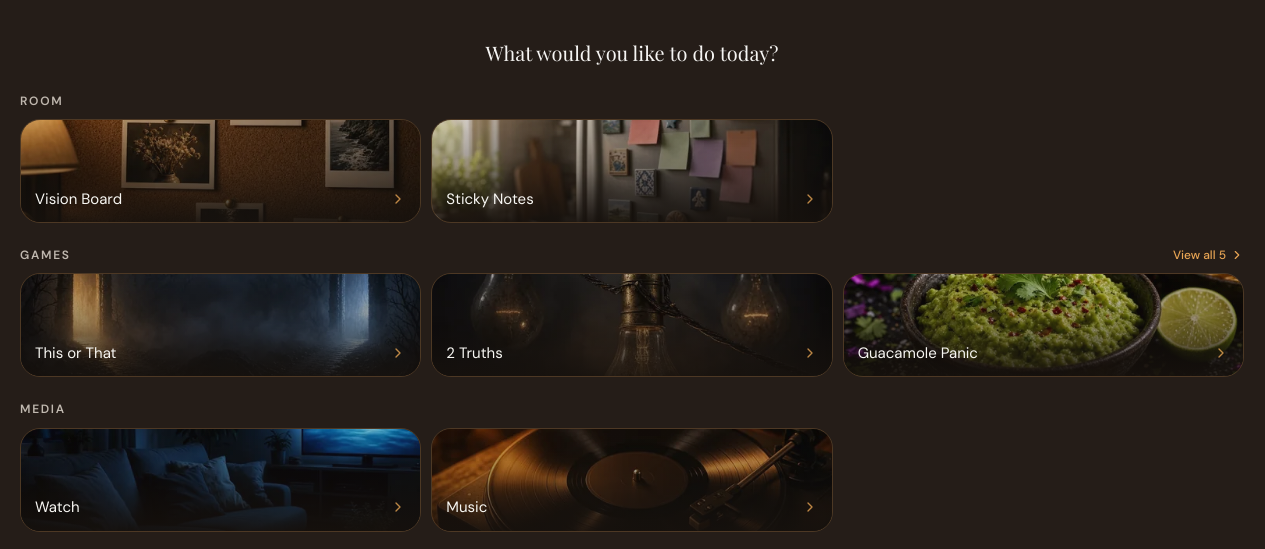
Test: ActivityLobby › shows three games up front and keeps the rest behind one door
The width and height of the screenshot is (1265, 549).
Check: the button "This or That" is shown, box 20,273 -> 421,377
Check: the button "2 Truths" is shown, box 431,273 -> 833,377
Step 1. Click the button "View all 5" → coordinates (1208, 255), box 1173,247 -> 1244,263
(page scrolled)
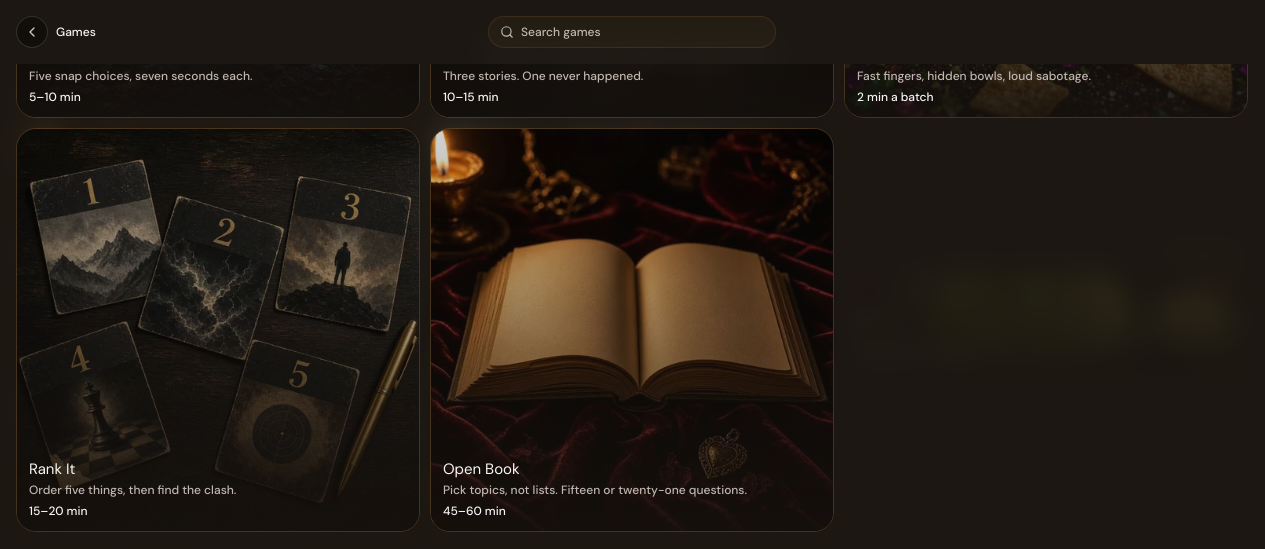
Check: the button "Rank It Order five things, then find the clash. 15–20 min" is shown, box 16,128 -> 420,532
Check: the button "Open Book" is shown, box 430,128 -> 834,532
